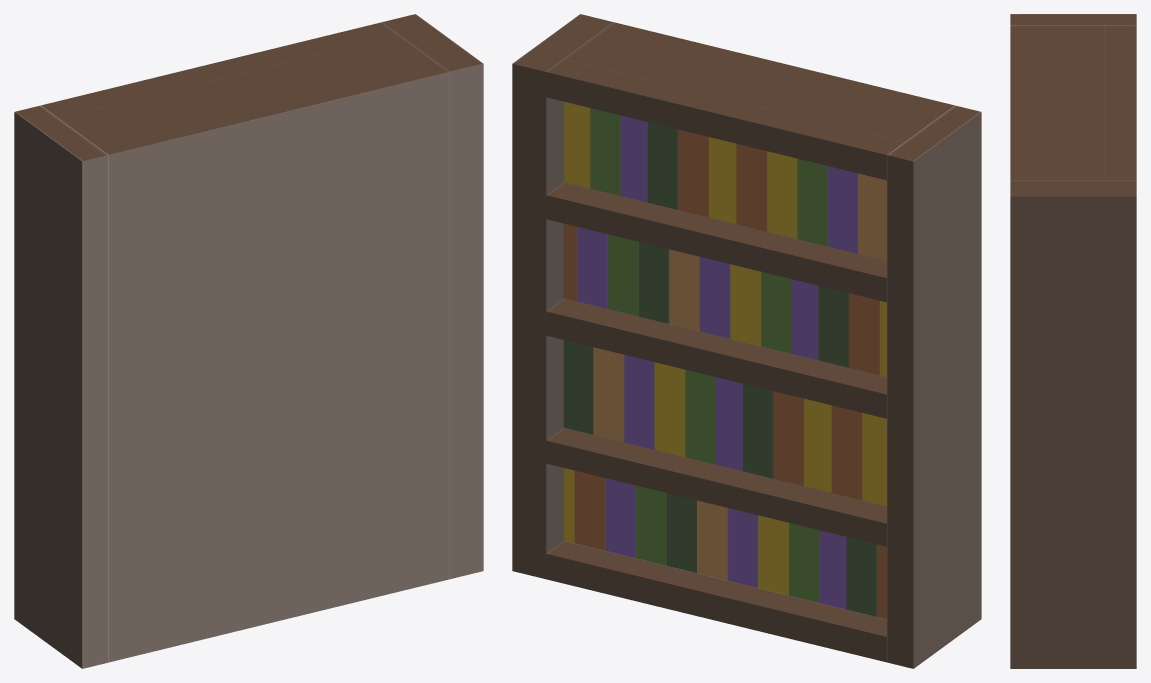
Rendered from bookshelf_v1.fbx.
The picture shows the model from 3 angles, left to right: view 1: azimuth 30°, elevation 25°; view 2: azimuth 150°, elevation 25°; view 3: azimuth 270°, elevation 25°; orthographic projection. The views are drawn at different scales.
Visible parts, largest first — view 1: bookshelf; view 2: bookshelf; view 3: bookshelf.
Boxes of the visible parts, x1,y1,x2,y2 form: bookshelf: (14,14,483,668); bookshelf: (512,14,981,668); bookshelf: (1010,14,1136,668).
Size of the model in its own units: 1.73 by 2.1 by 0.5086.
Materials: 1 (1 with a texture image).
